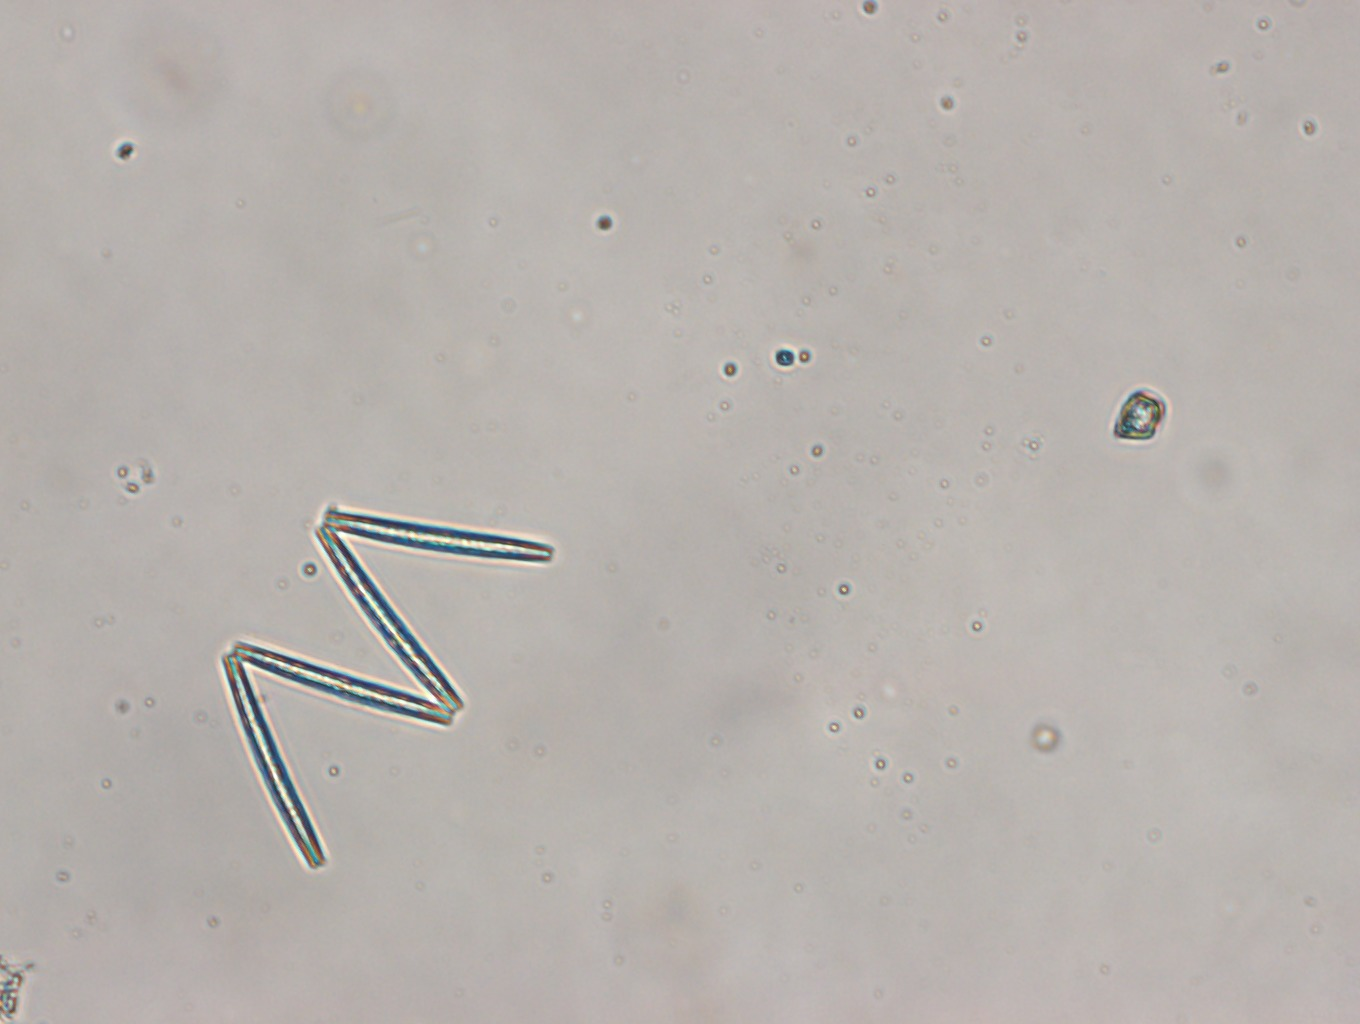thalassionema nitzschioides: (218, 507, 553, 866)
